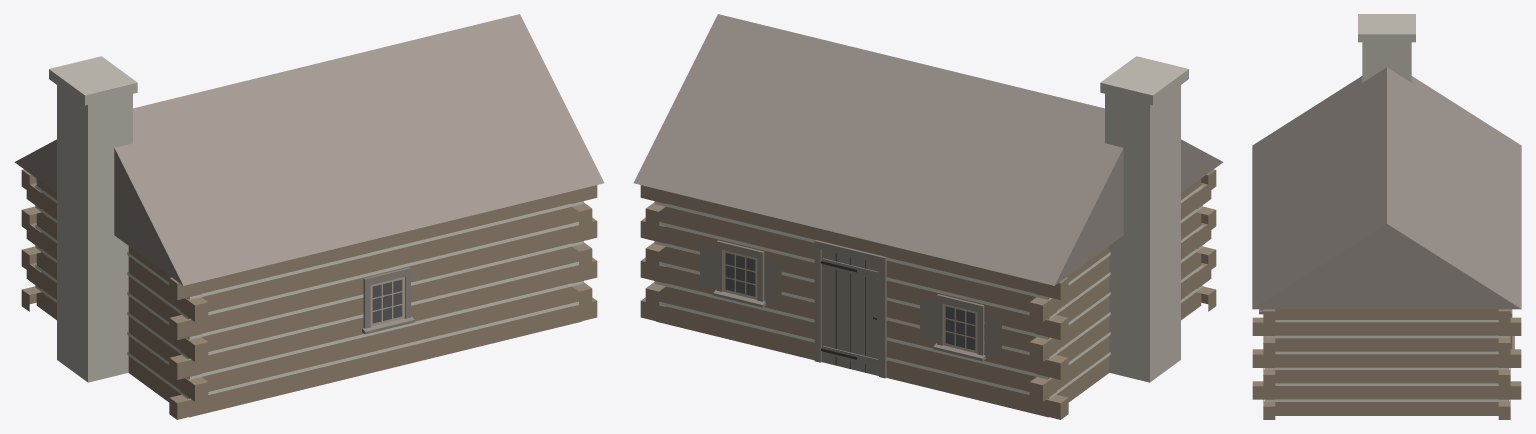
File: lalime_house_1812__lalime_1812.glb
3 views of the same model, side by side, from view 1: azimuth 30°, elevation 25°; view 2: azimuth 150°, elevation 25°; view 3: azimuth 270°, elevation 25° (orthographic). The views are drawn at different scales.
Parts seen in each view (by area): view 1: lalime_house_1812__lalime_1812; view 2: lalime_house_1812__lalime_1812; view 3: lalime_house_1812__lalime_1812.
Part boxes in pixels (x1,y1,x2,y2): lalime_house_1812__lalime_1812: [14, 14, 604, 419]; lalime_house_1812__lalime_1812: [633, 14, 1223, 419]; lalime_house_1812__lalime_1812: [1252, 14, 1521, 419].
Bounding box in the file's own units: 8.08 × 4.95 × 5.22.
